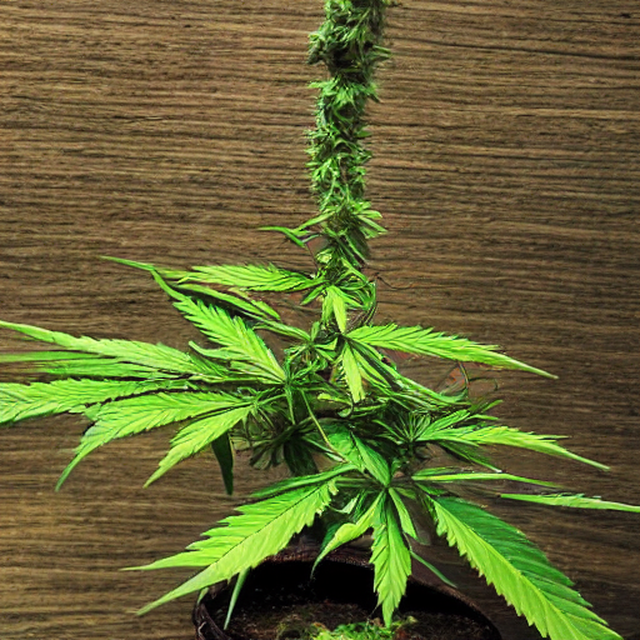Marijuana Plant: (150, 43, 552, 639)
